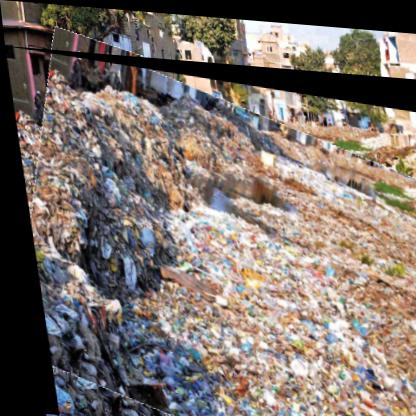Garbage: (5, 47, 416, 416)
